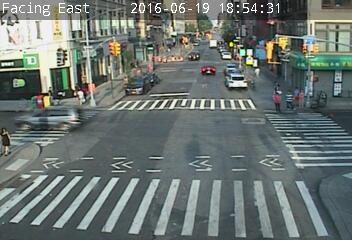neg: (221, 193, 253, 236), (214, 78, 237, 108), (68, 163, 91, 193), (116, 154, 138, 184), (127, 73, 145, 96), (163, 94, 177, 113), (162, 71, 172, 84), (197, 54, 206, 66)
pos: (268, 90, 286, 115), (42, 84, 59, 107), (281, 90, 297, 111), (253, 64, 266, 81)
